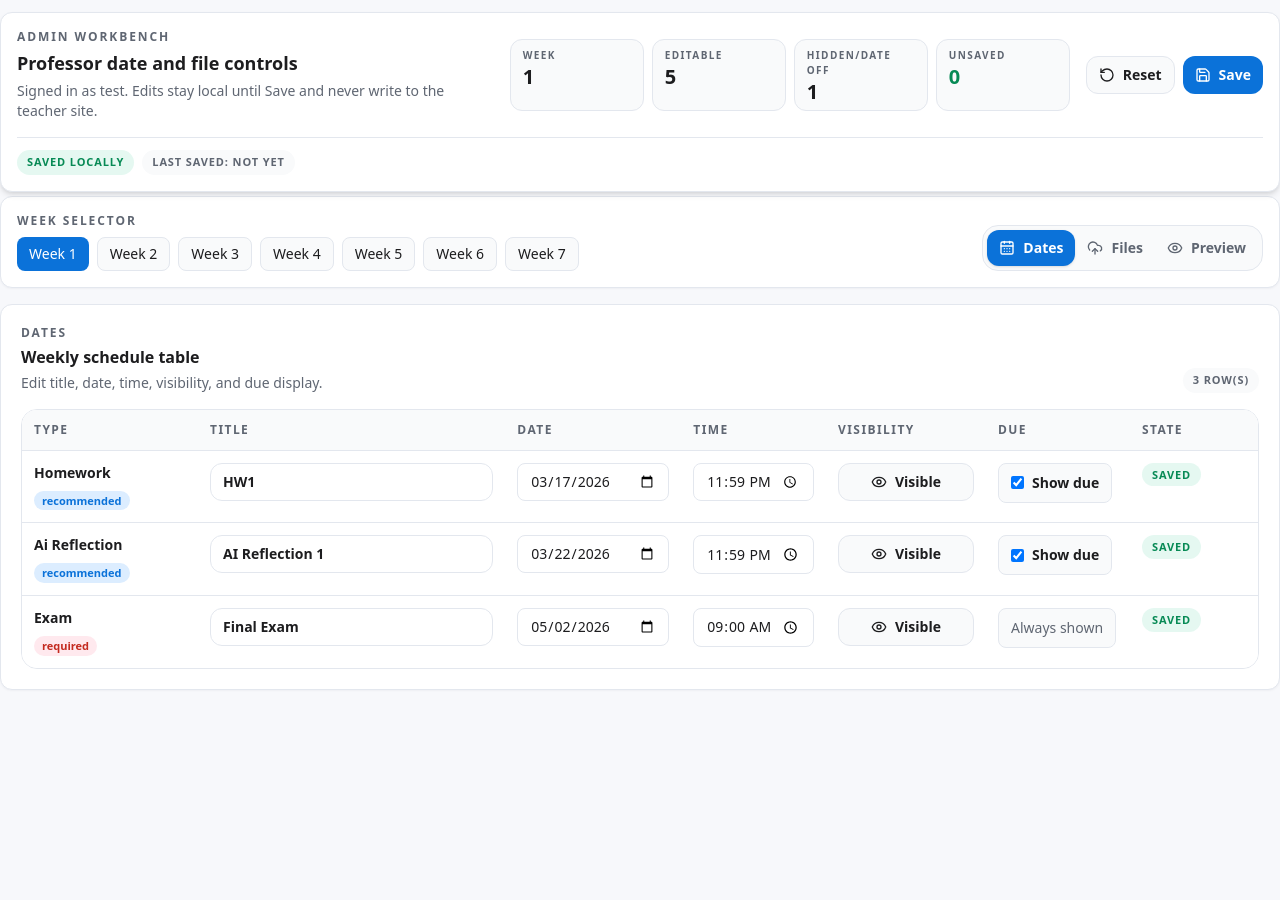
Scenario: AdminBoard › renders the date workbench, edits dates, omits description fields, and previews visible content only
Expected: the heading "Professor date and file controls" is shown, [17, 51, 298, 75]
Expected: the heading "Weekly schedule table" is shown, [21, 346, 200, 368]
Replace the text in the field named "HW1 title" in the row of "Homework" with "Edited HW1" at (352, 482), box [210, 462, 493, 500]
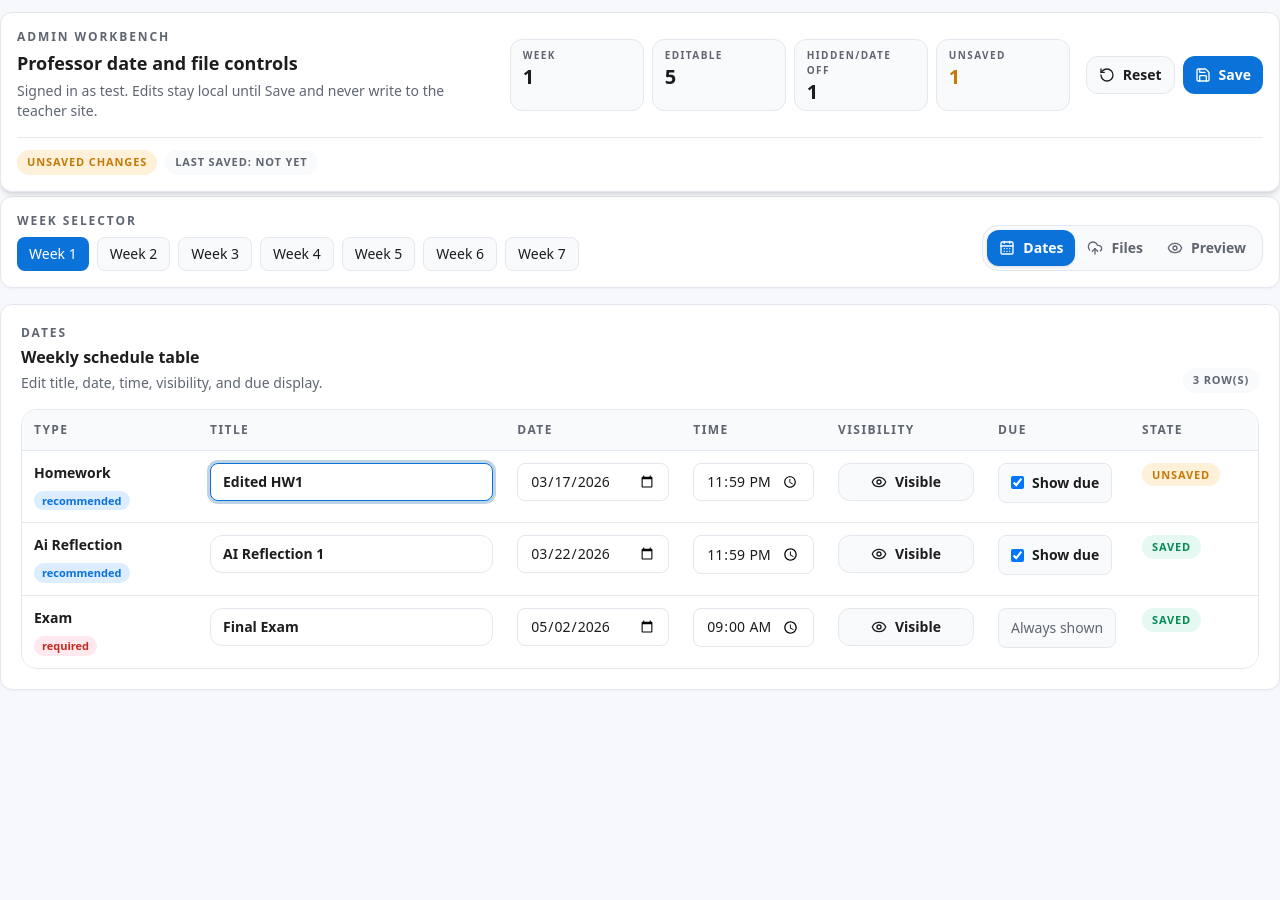
Replace the text in the time field named "HW1 time" with "18:30" at (754, 482), box [693, 462, 814, 501]
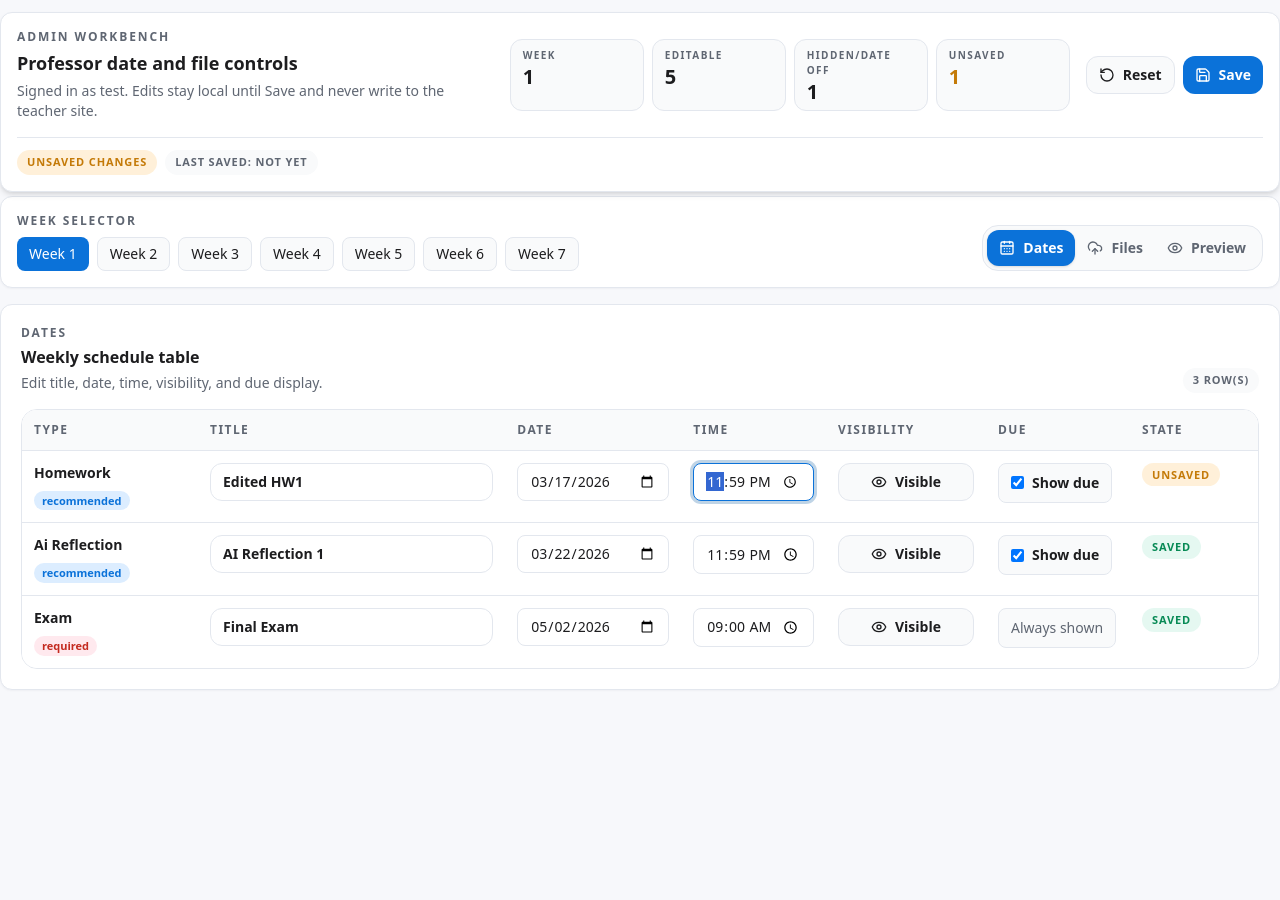
Expected: the text "Unsaved" next to "Hidden/date off" is shown, [949, 48, 1006, 62]
Click the button "Save" at (1223, 75), box [1183, 56, 1263, 94]
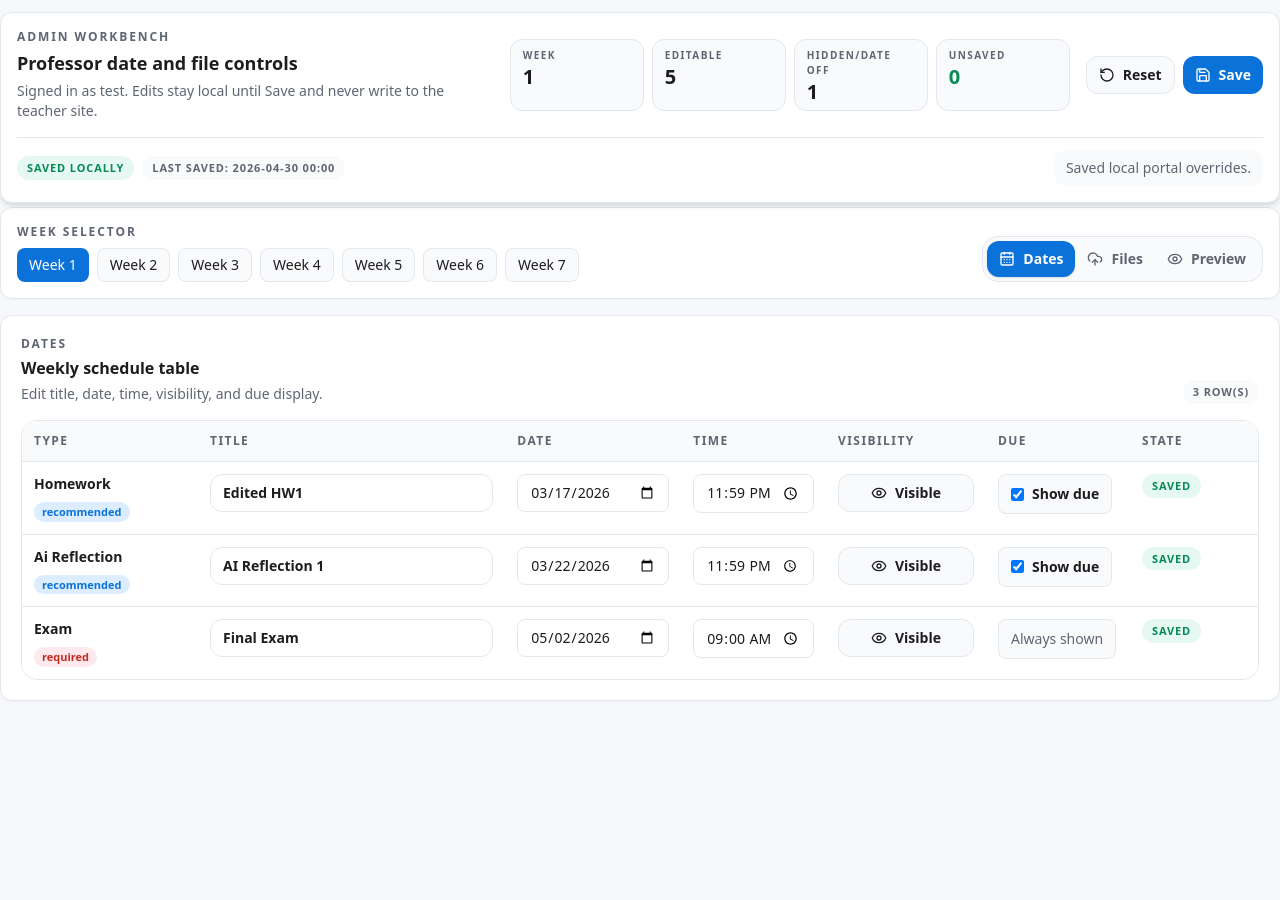
Expected: the text "Saved local portal overrides." is shown, [1054, 150, 1263, 186]
Click the button "Preview" at (1206, 259), box [1155, 241, 1258, 277]
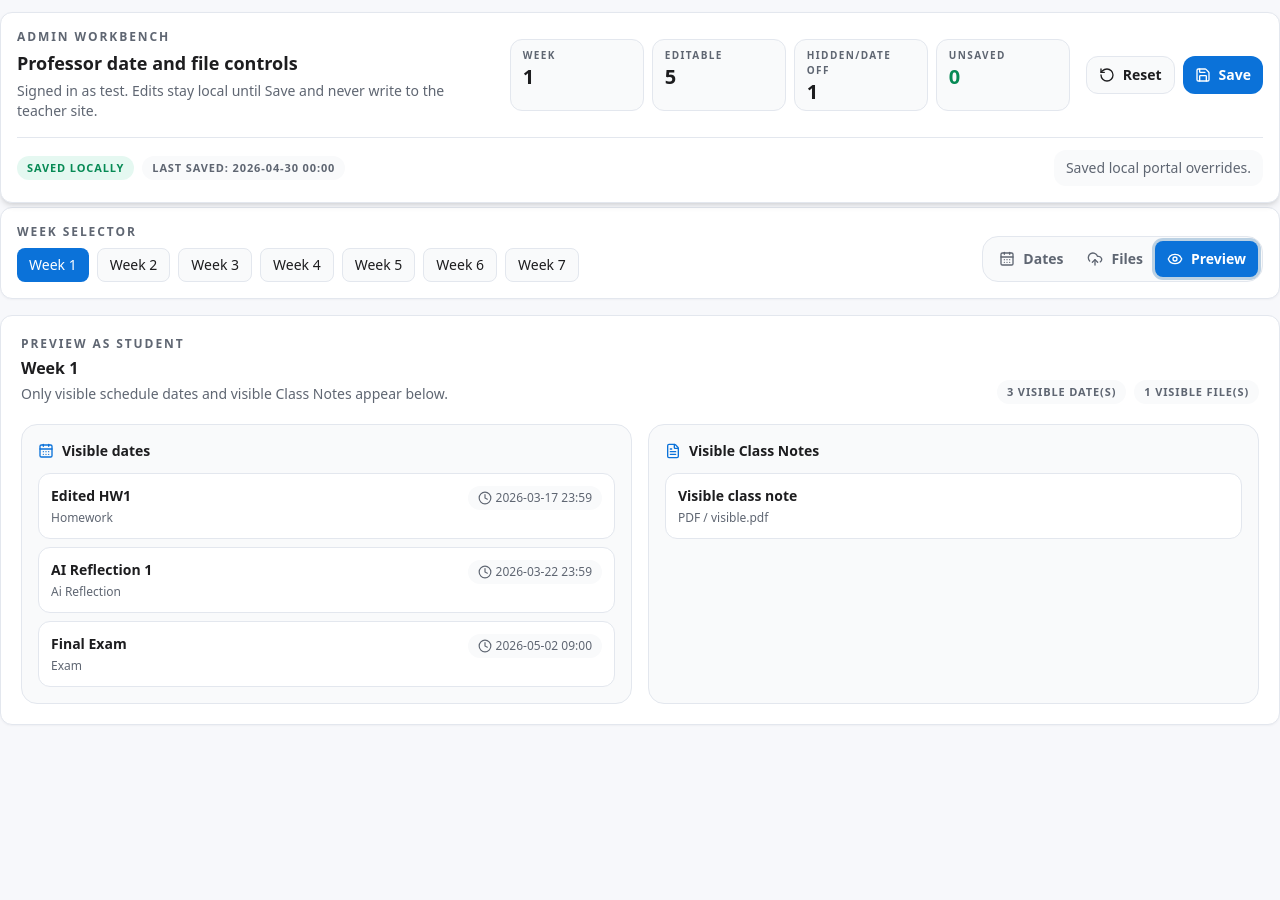
Expected: the text "Visible class note" is shown, [678, 486, 797, 505]
